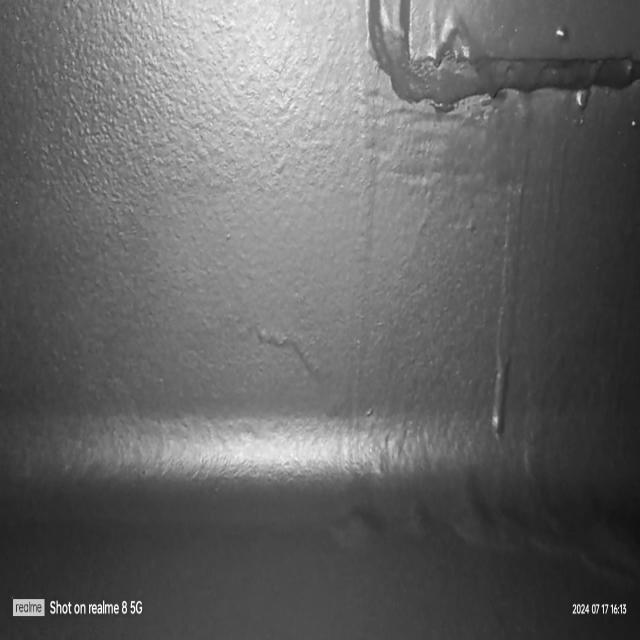paint drips: (489, 80, 538, 457), (254, 311, 333, 404), (549, 14, 582, 52), (570, 82, 595, 126)
